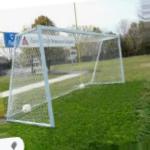goals: (5, 23, 127, 130)
